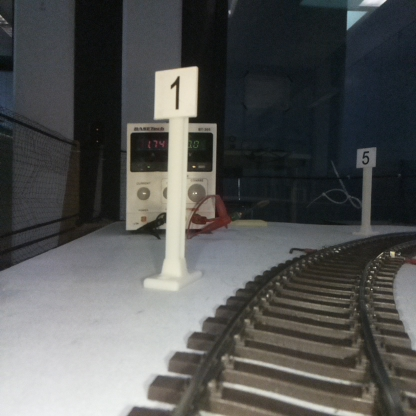white-info-1: (153, 68, 197, 288)
white-info-5: (357, 147, 375, 230)
